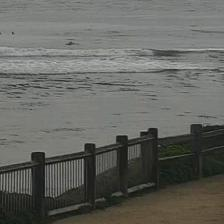surfer: (66, 42, 78, 46), (0, 31, 3, 36), (12, 31, 14, 35)
